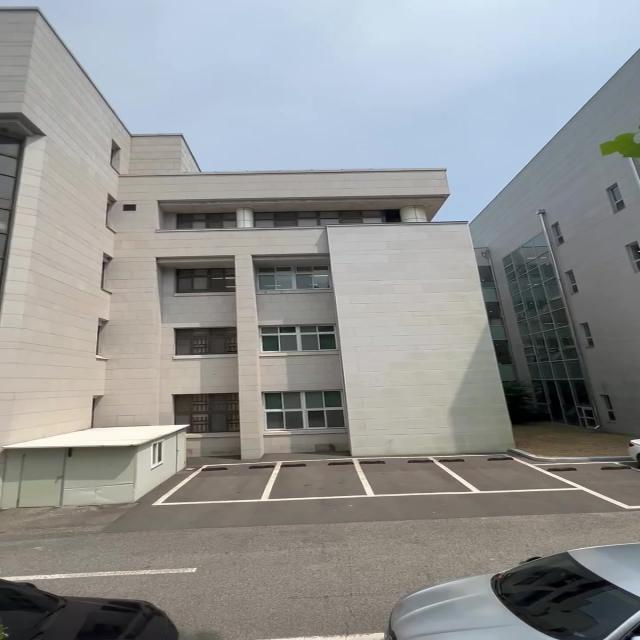building: (0, 2, 640, 478)
